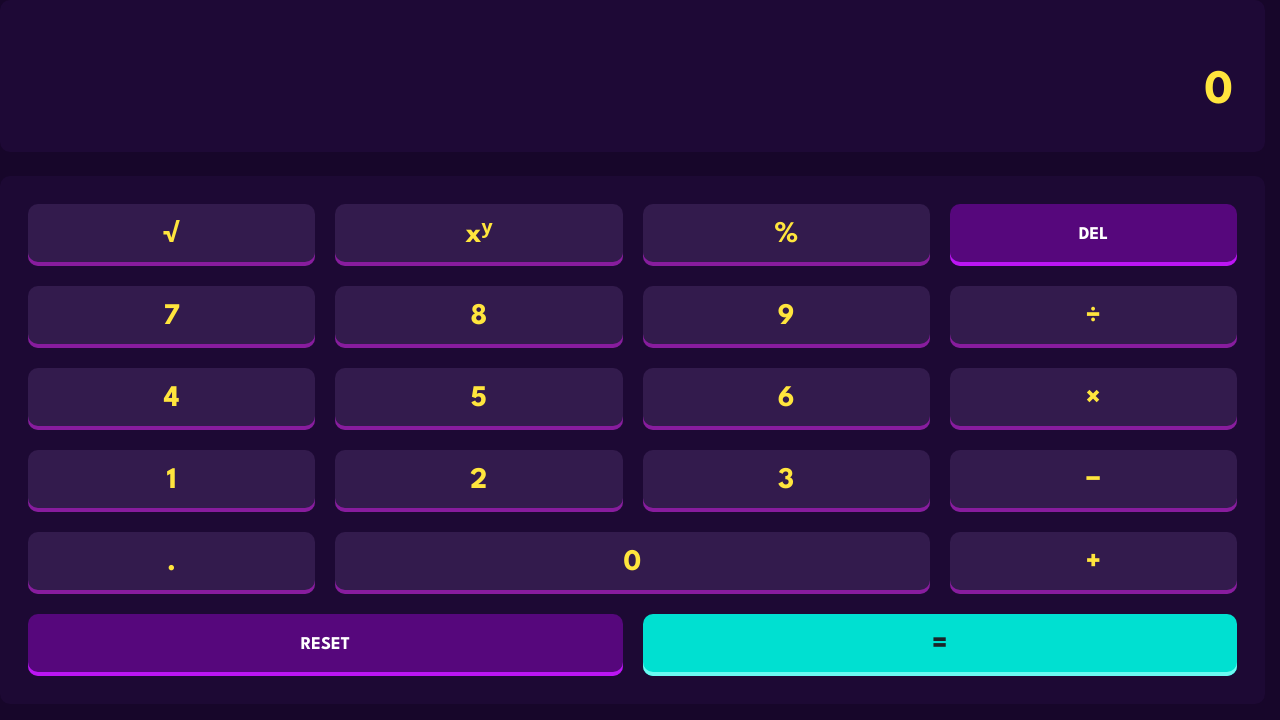
Calculator › error handling › falls back to a generic message for an unrecognised failure
Click the button "2": [479, 481] box [335, 450, 623, 512]
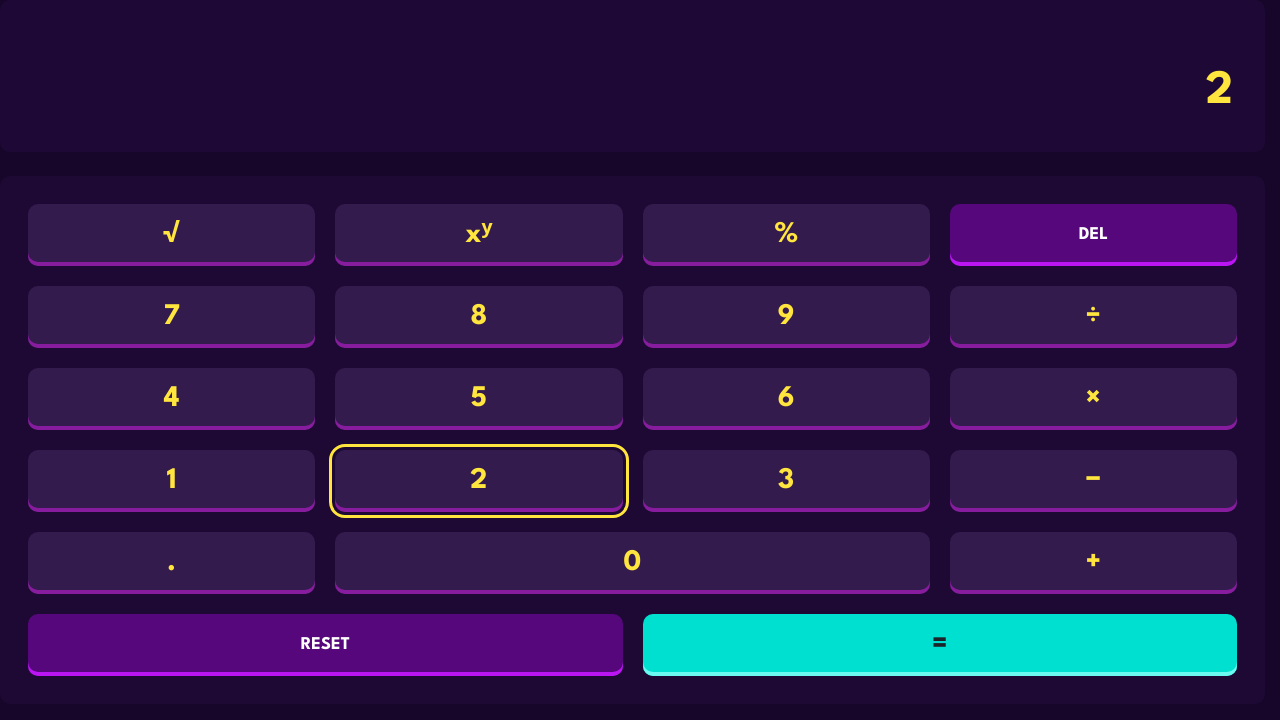
Click the button "+": [1093, 563] box [950, 532, 1237, 594]
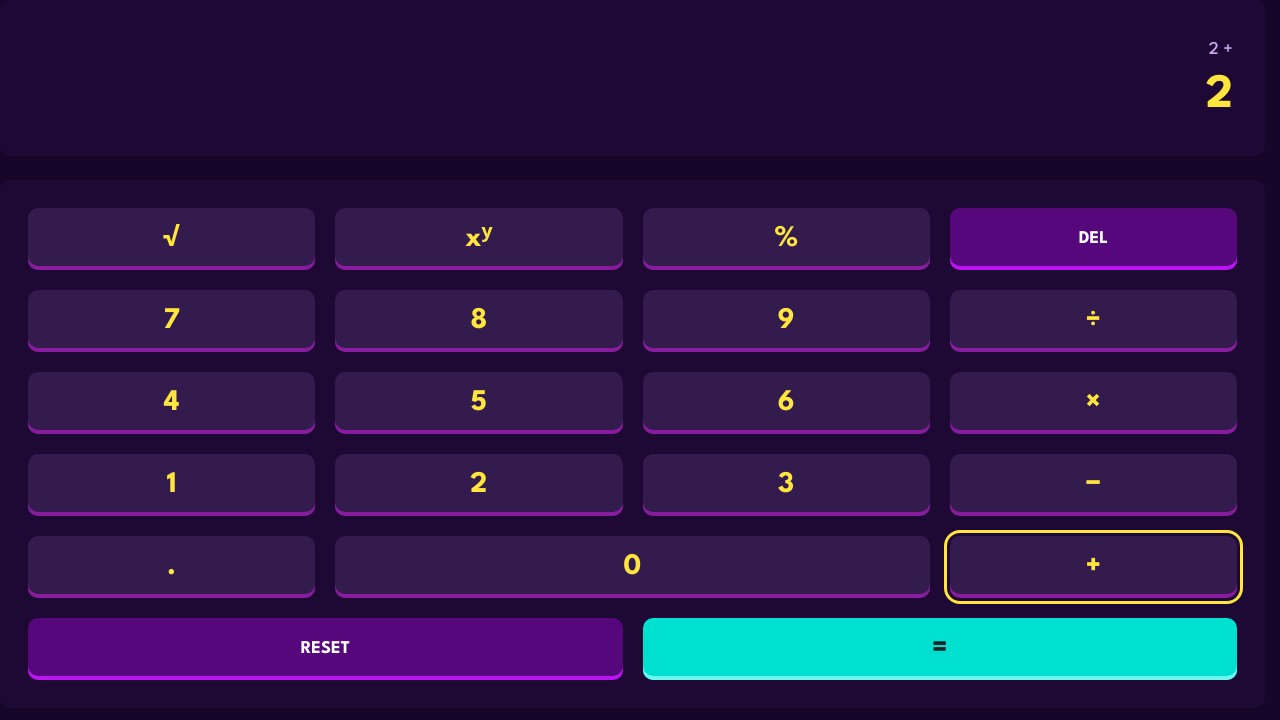
Click the button "2": [479, 485] box [335, 454, 623, 516]
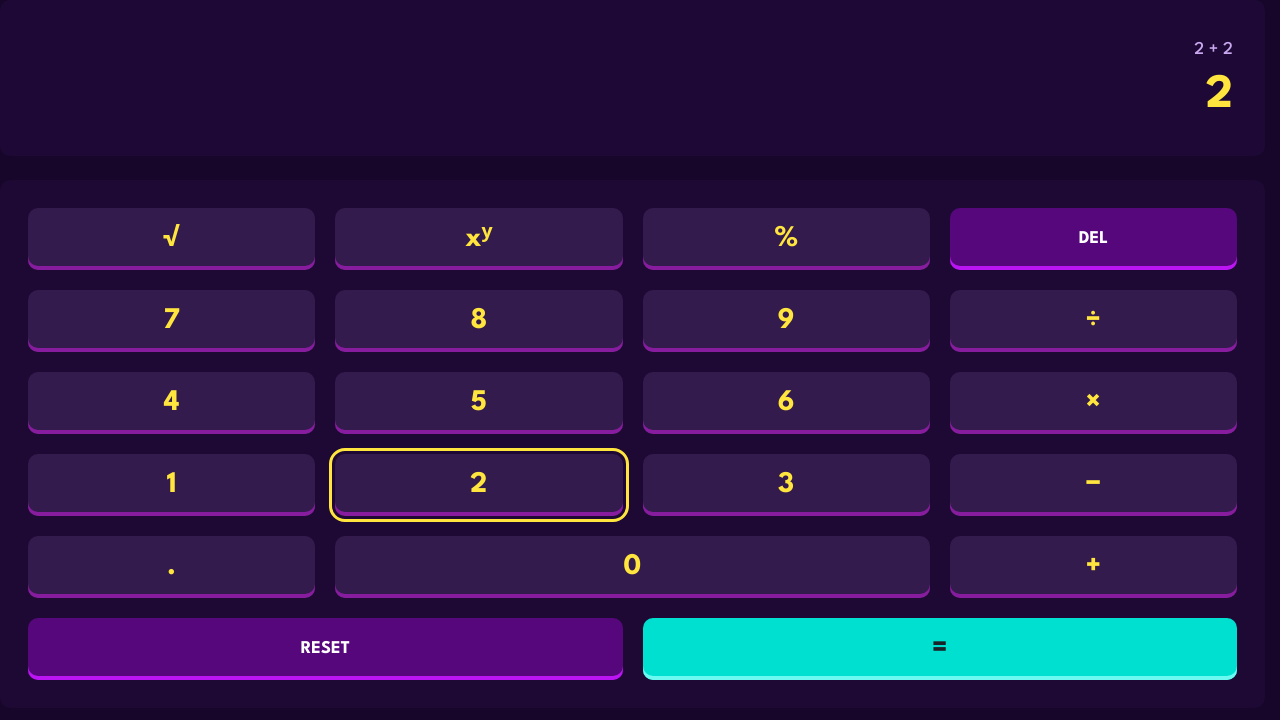
Click the button with test id "key-equals": [940, 649] box [642, 618, 1237, 680]
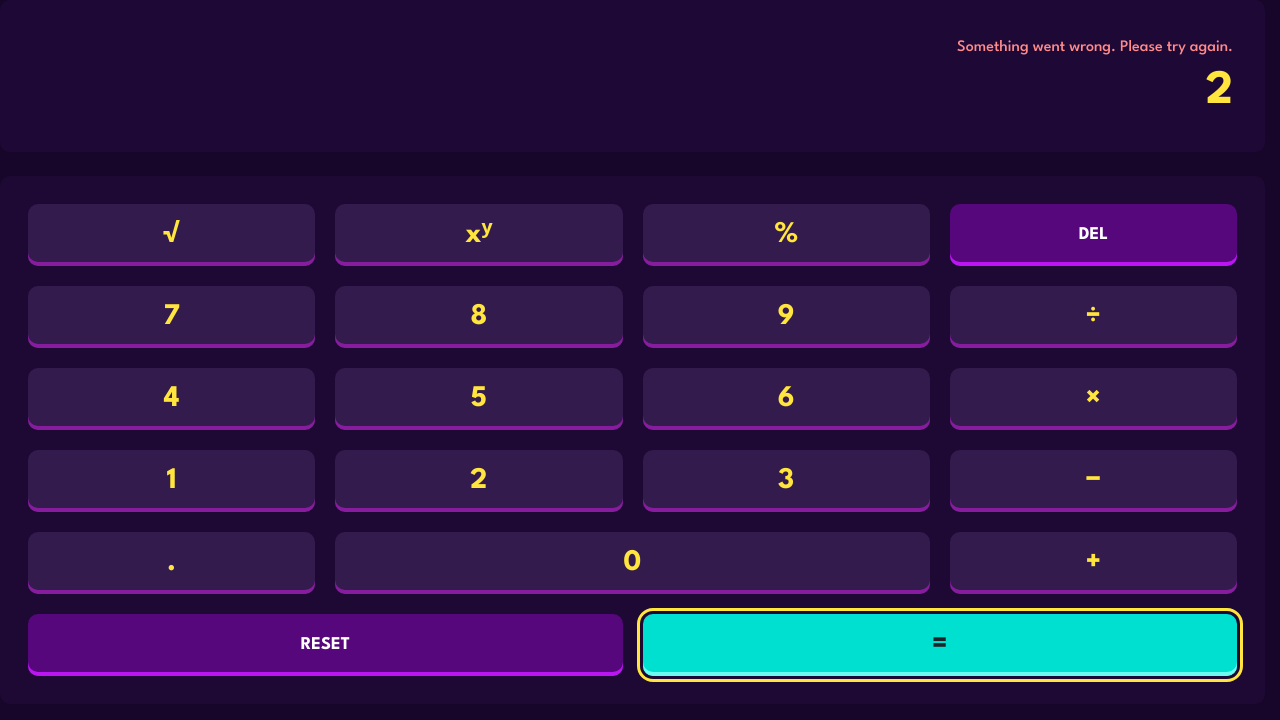
Expected: the message does not show "boom", [957, 37, 1233, 59]
Expected: the message shows "Something went wrong", [957, 40, 1233, 55]
